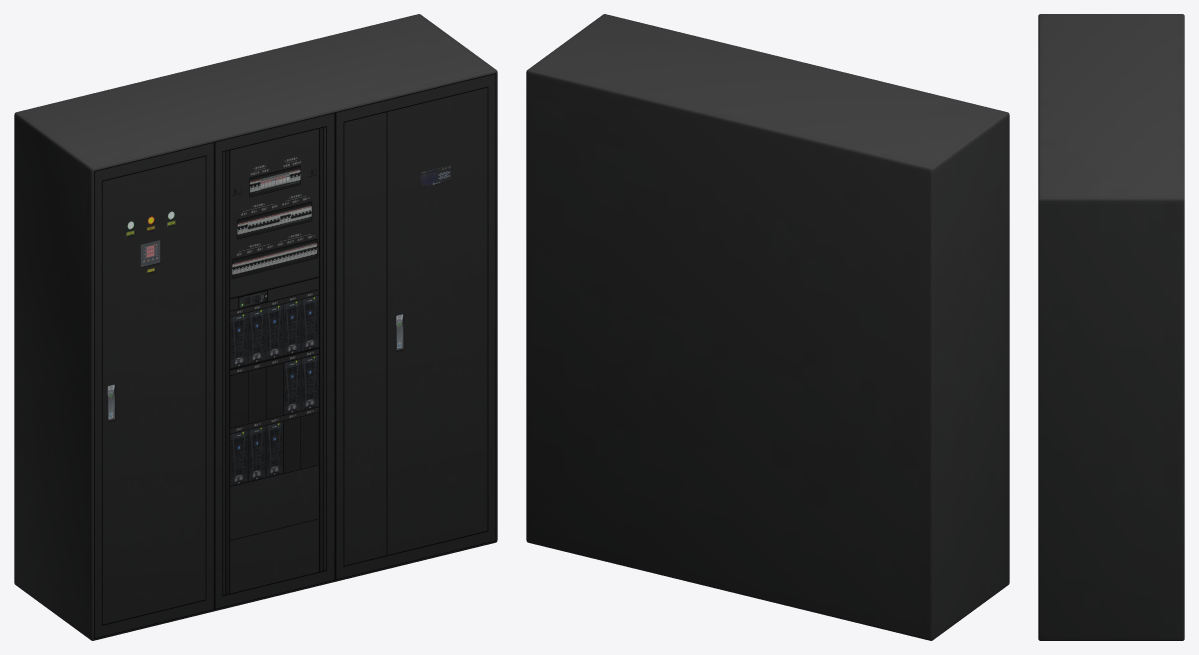
The model's file is ups.obj.
3 renders of one model, left to right at view 1: azimuth 30°, elevation 25°; view 2: azimuth 150°, elevation 25°; view 3: azimuth 270°, elevation 25°, orthographic. The views are drawn at different scales.
Visible parts, largest first — view 1: 403ups; view 2: 403ups; view 3: 403ups.
Part boxes in pixels (x1,y1,x2,y2): 403ups: (14,14,497,640); 403ups: (526,14,1009,640); 403ups: (1038,14,1184,640).
Size of the model in its own units: 180 by 200 by 60.
